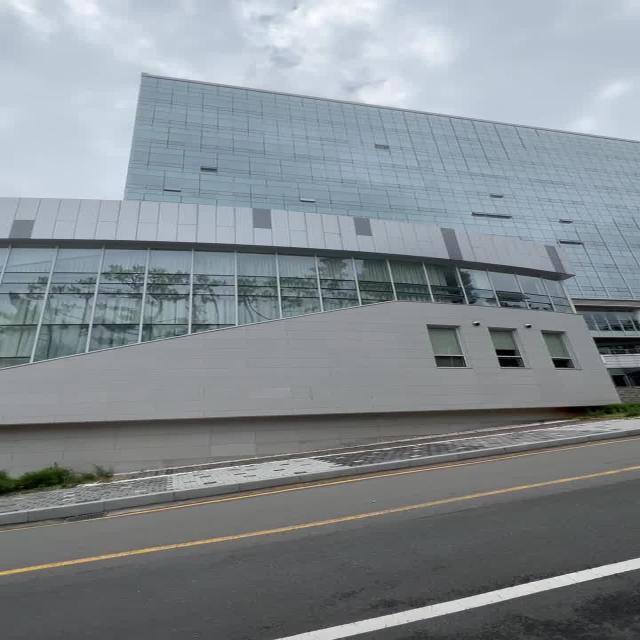building: (121, 81, 640, 407)
